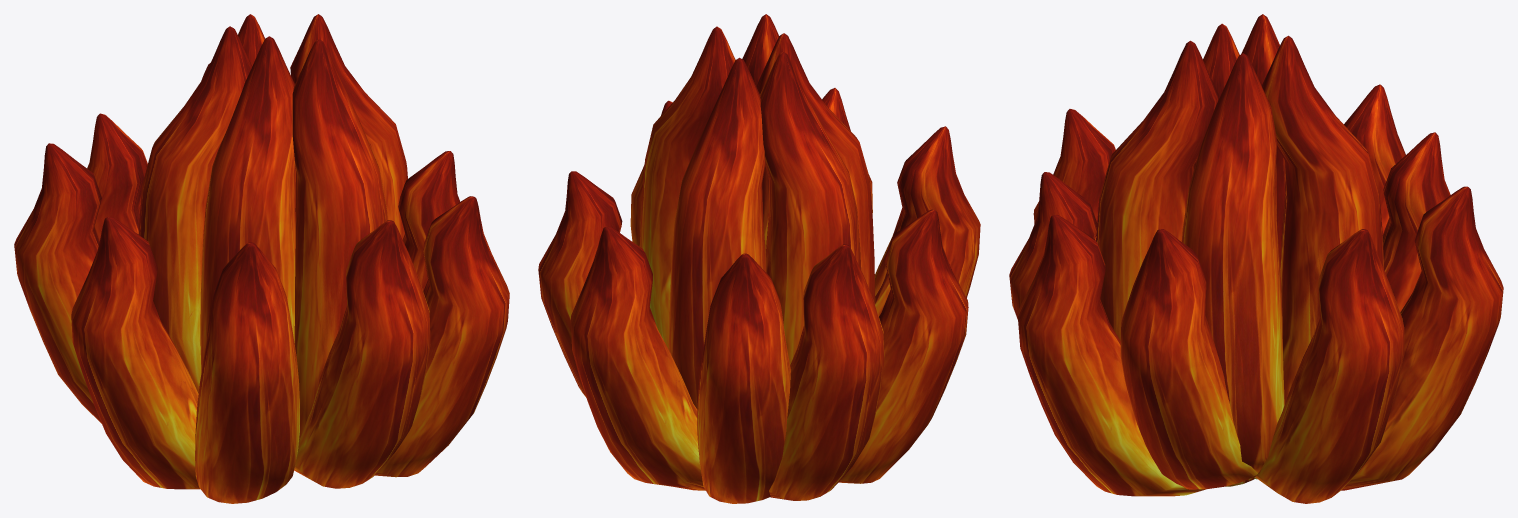
Rendered from FuegoHornoPicapiedras.obj.
3 views of the same model, side by side, from view 1: azimuth 30°, elevation 25°; view 2: azimuth 150°, elevation 25°; view 3: azimuth 270°, elevation 25° (orthographic). The views are drawn at different scales.
Visible parts, largest first — view 1: group5_pasted__pSphere9; view 2: group5_pasted__pSphere9; view 3: group5_pasted__pSphere9.
Boxes of the visible parts, x1=… form: group5_pasted__pSphere9: x1=14, y1=14, x2=509, y2=503; group5_pasted__pSphere9: x1=538, y1=14, x2=980, y2=503; group5_pasted__pSphere9: x1=1009, y1=14, x2=1503, y2=503.
Bounding box in the file's own units: 12.53 × 14.22 × 14.21.
Materials: 1 (1 with a texture image).
